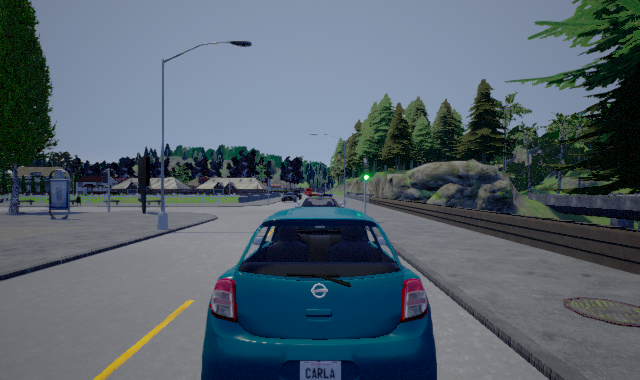traffic_light: (363, 158, 371, 182)
vehicle: (201, 205, 439, 380), (280, 191, 298, 203)
